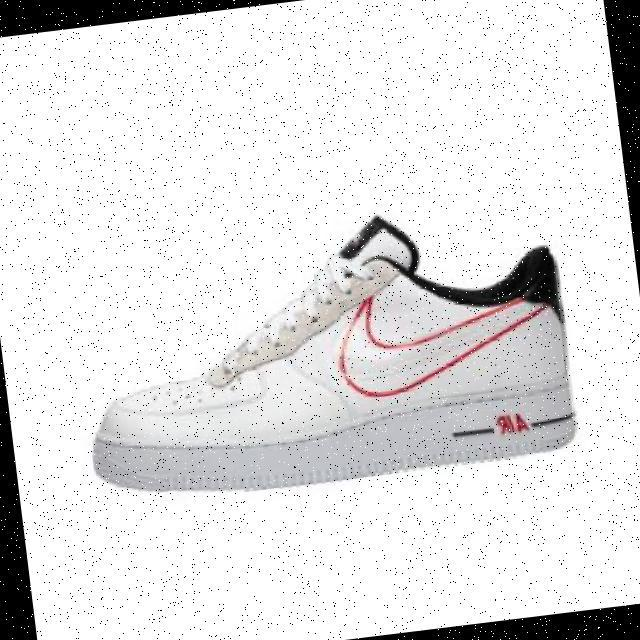Nike: (332, 273, 559, 399)
